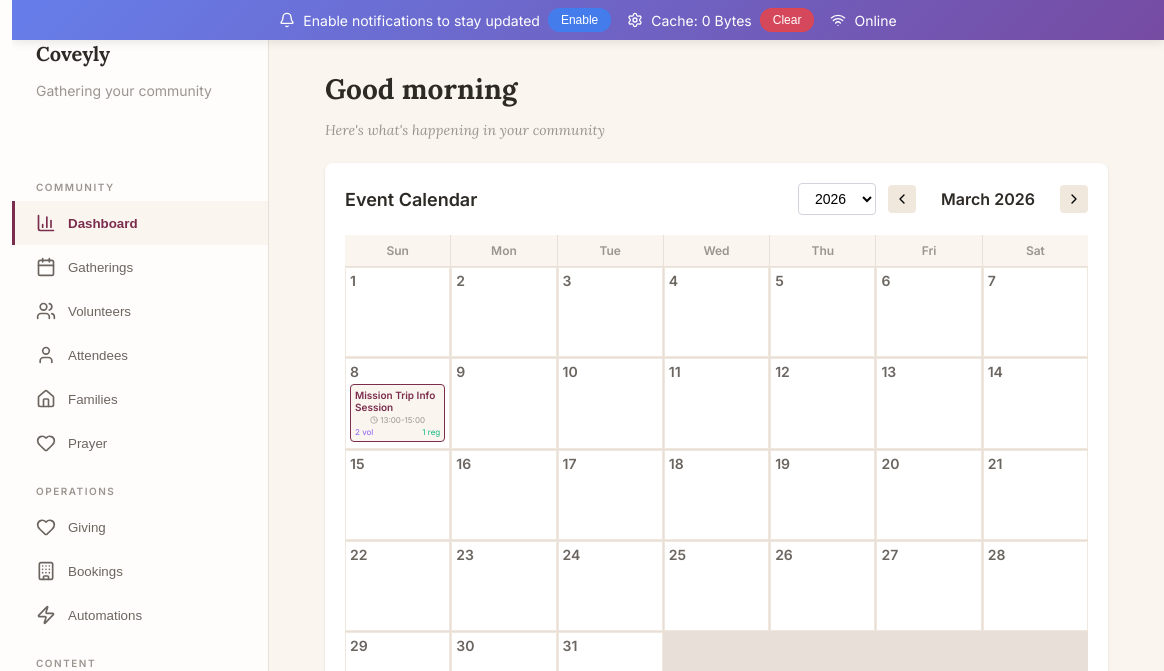
Scenario: navigates to Volunteers tab when clicked
The image size is (1164, 671).
Click the button "Volunteers": (140, 311) x1=12 y1=289 x2=268 y2=333
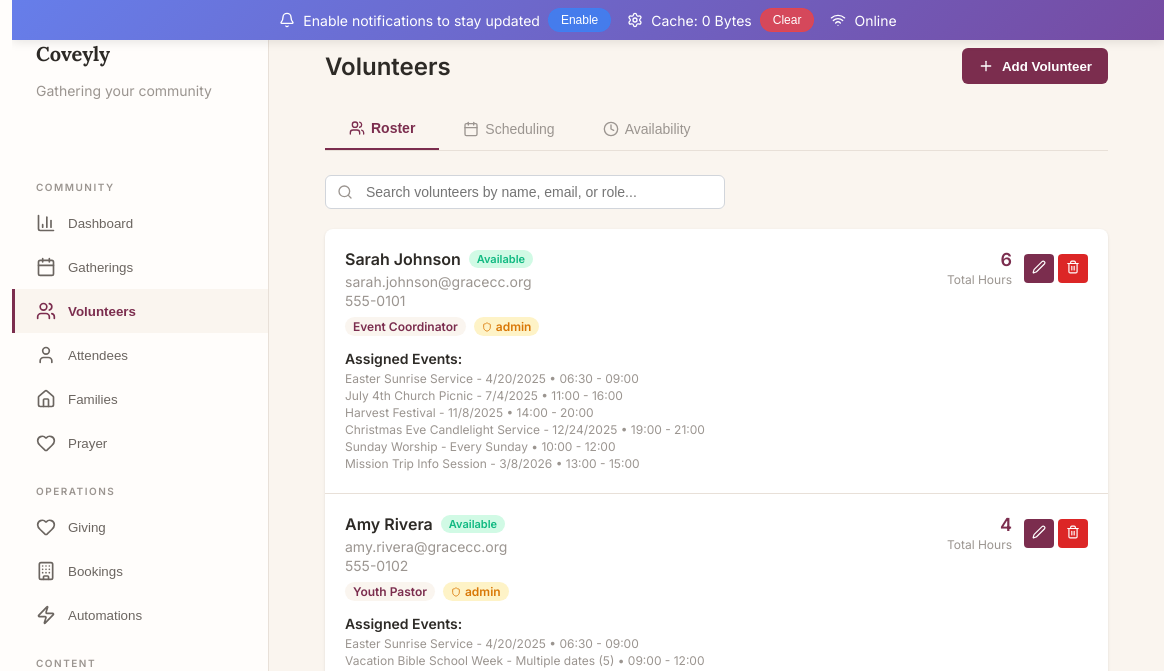
expect the heading "Sarah Johnson" is shown: met, box x1=345 y1=249 x2=461 y2=269
